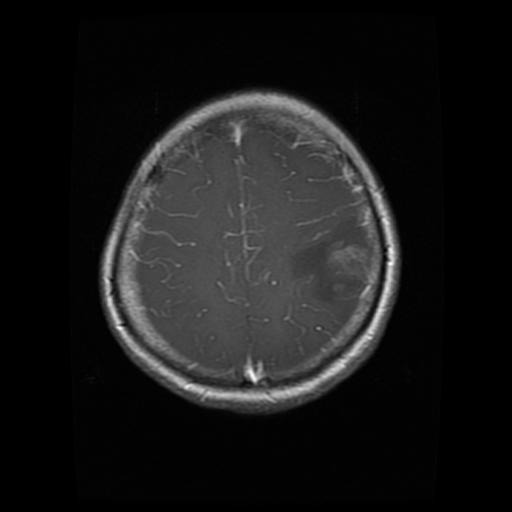Gliomia_tumour: (291, 216, 374, 297)
